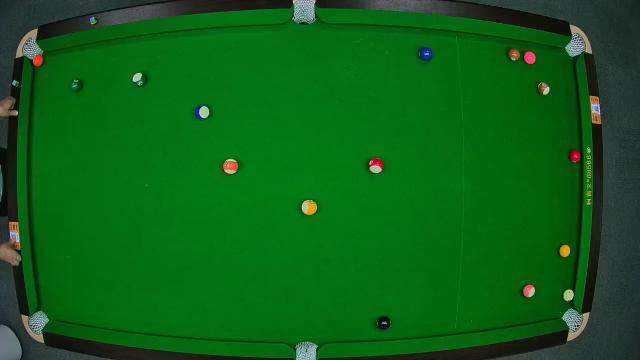bag1: (20, 40, 40, 61)
bag2: (292, 1, 316, 25)
bag3: (566, 35, 588, 55)
bag4: (28, 311, 48, 333)
bag5: (293, 340, 319, 360)
bag6: (562, 308, 582, 332)
ball0: (562, 290, 574, 302)
ball1: (559, 244, 571, 258)
ball10: (194, 105, 210, 119)
ball11: (368, 159, 384, 174)
ball12: (523, 284, 537, 298)
ball13: (223, 159, 239, 175)
ball14: (130, 72, 148, 88)
ball15: (538, 82, 550, 94)
ball2: (418, 46, 434, 62)
ball3: (568, 149, 582, 163)
ball4: (524, 51, 536, 65)
ball5: (32, 56, 44, 66)
ball6: (70, 78, 84, 92)
ball7: (506, 47, 520, 61)
ball8: (376, 316, 392, 330)
ball9: (301, 200, 317, 216)
